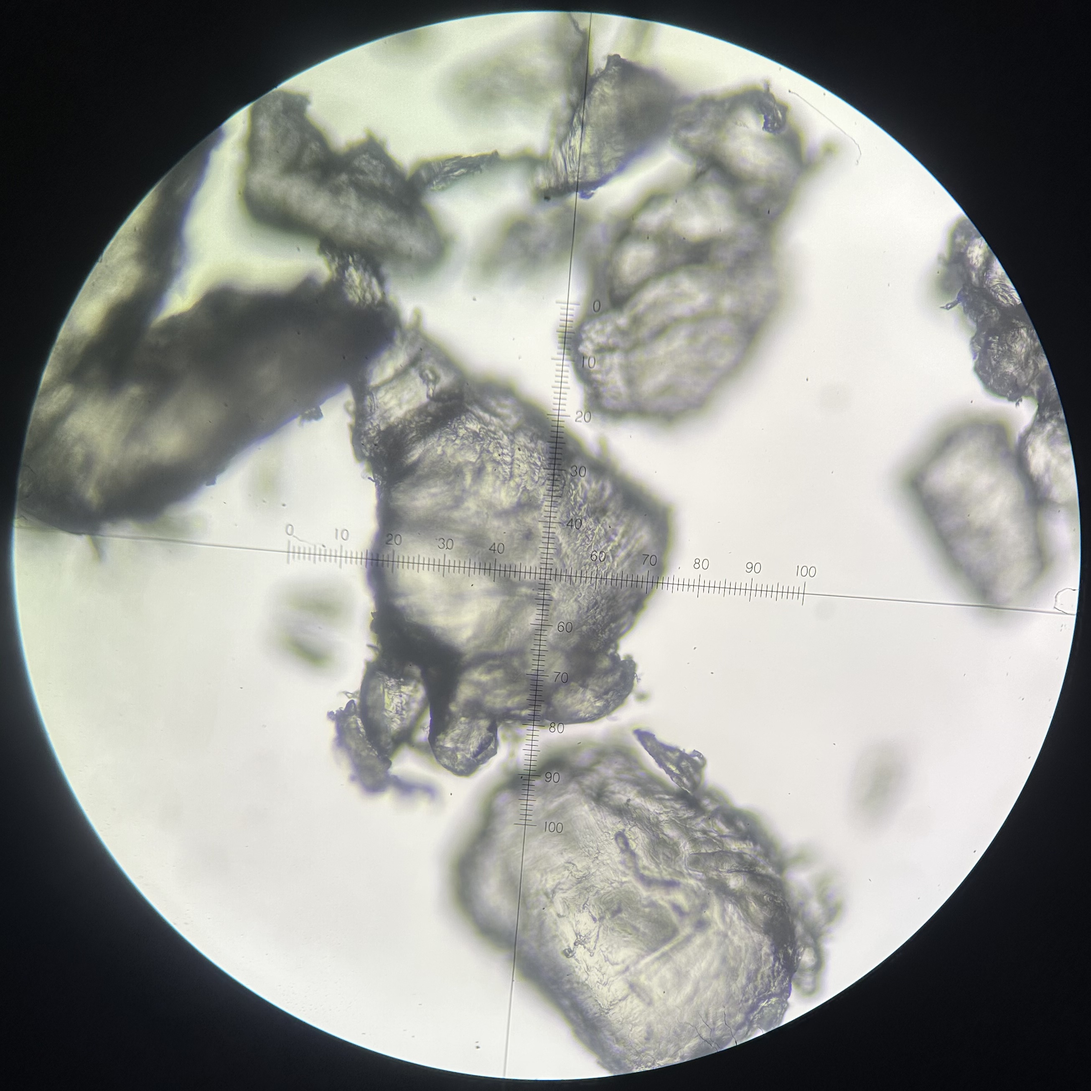microplastic: (12, 124, 396, 539), (345, 304, 673, 778), (449, 738, 827, 1076), (559, 86, 809, 422), (242, 87, 449, 271), (530, 12, 679, 198), (934, 213, 1068, 419), (907, 419, 1048, 611), (327, 700, 445, 807), (467, 204, 591, 296), (353, 649, 430, 769), (1016, 404, 1078, 511), (631, 724, 708, 799), (400, 152, 464, 208), (426, 150, 503, 192)
